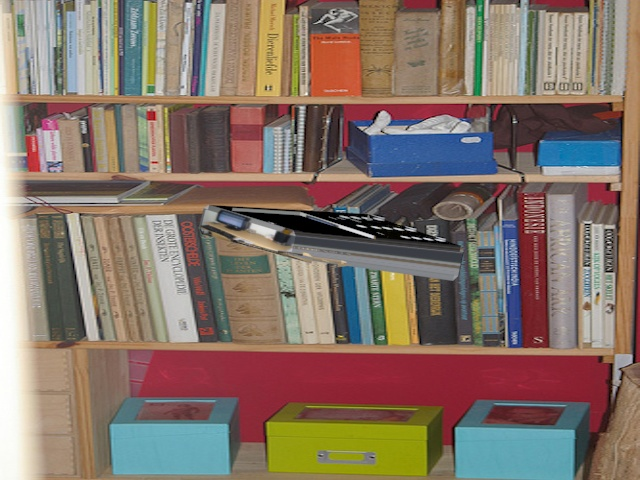mobile_phone: (193, 201, 465, 288)
